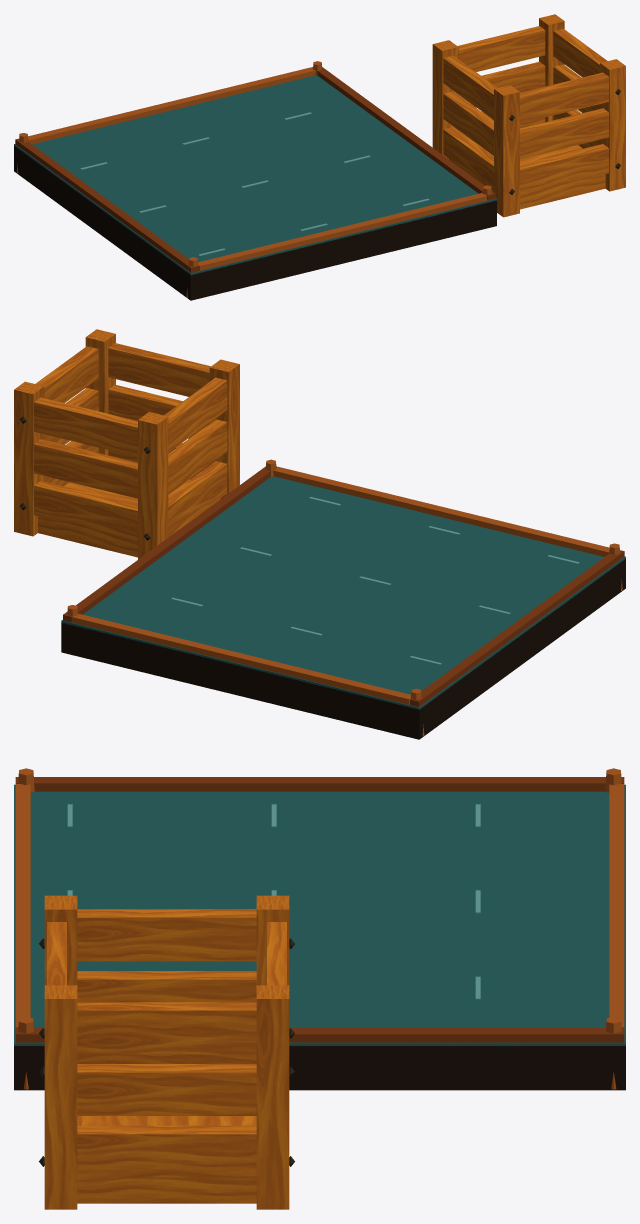
The model's file is farm-with-box-water.obj.
The picture shows the model from 3 angles, top to bottom: view 1: azimuth 30°, elevation 25°; view 2: azimuth 150°, elevation 25°; view 3: azimuth 270°, elevation 25°; orthographic projection. The views are drawn at different scales.
Visible parts, largest first — view 1: farm-with-box-water; view 2: farm-with-box-water; view 3: farm-with-box-water.
Boxes of the visible parts, x1,y1,x2,y2 form: farm-with-box-water: (14,14,625,300); farm-with-box-water: (14,329,625,739); farm-with-box-water: (14,768,625,1209).
Size of the model in its own units: 2.91 by 0.759 by 2.
Materials: 2 (2 with a texture image).
